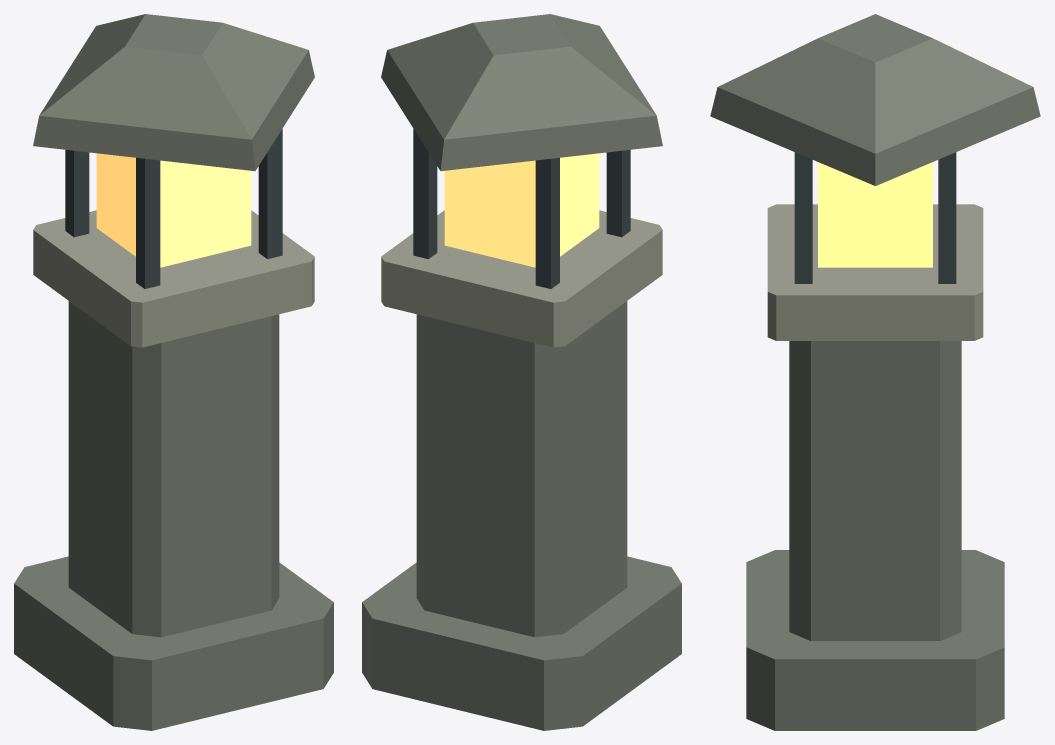
The model's file is decor_path_light.glb.
The picture shows the model from 3 angles, left to right: view 1: azimuth 30°, elevation 25°; view 2: azimuth 150°, elevation 25°; view 3: azimuth 270°, elevation 25°; orthographic projection.
Parts seen in each view (by area): view 1: geometry, light; view 2: geometry, light; view 3: geometry, light.
Part boxes in pixels (<box>): geometry: <box>14,14,333,730</box>; light: <box>96,153,251,267</box>; geometry: <box>362,14,681,730</box>; light: <box>444,153,599,267</box>; geometry: <box>710,14,1040,730</box>; light: <box>818,162,932,267</box>.
Bounding box in the file's own units: 0.46 × 0.98 × 0.46.
